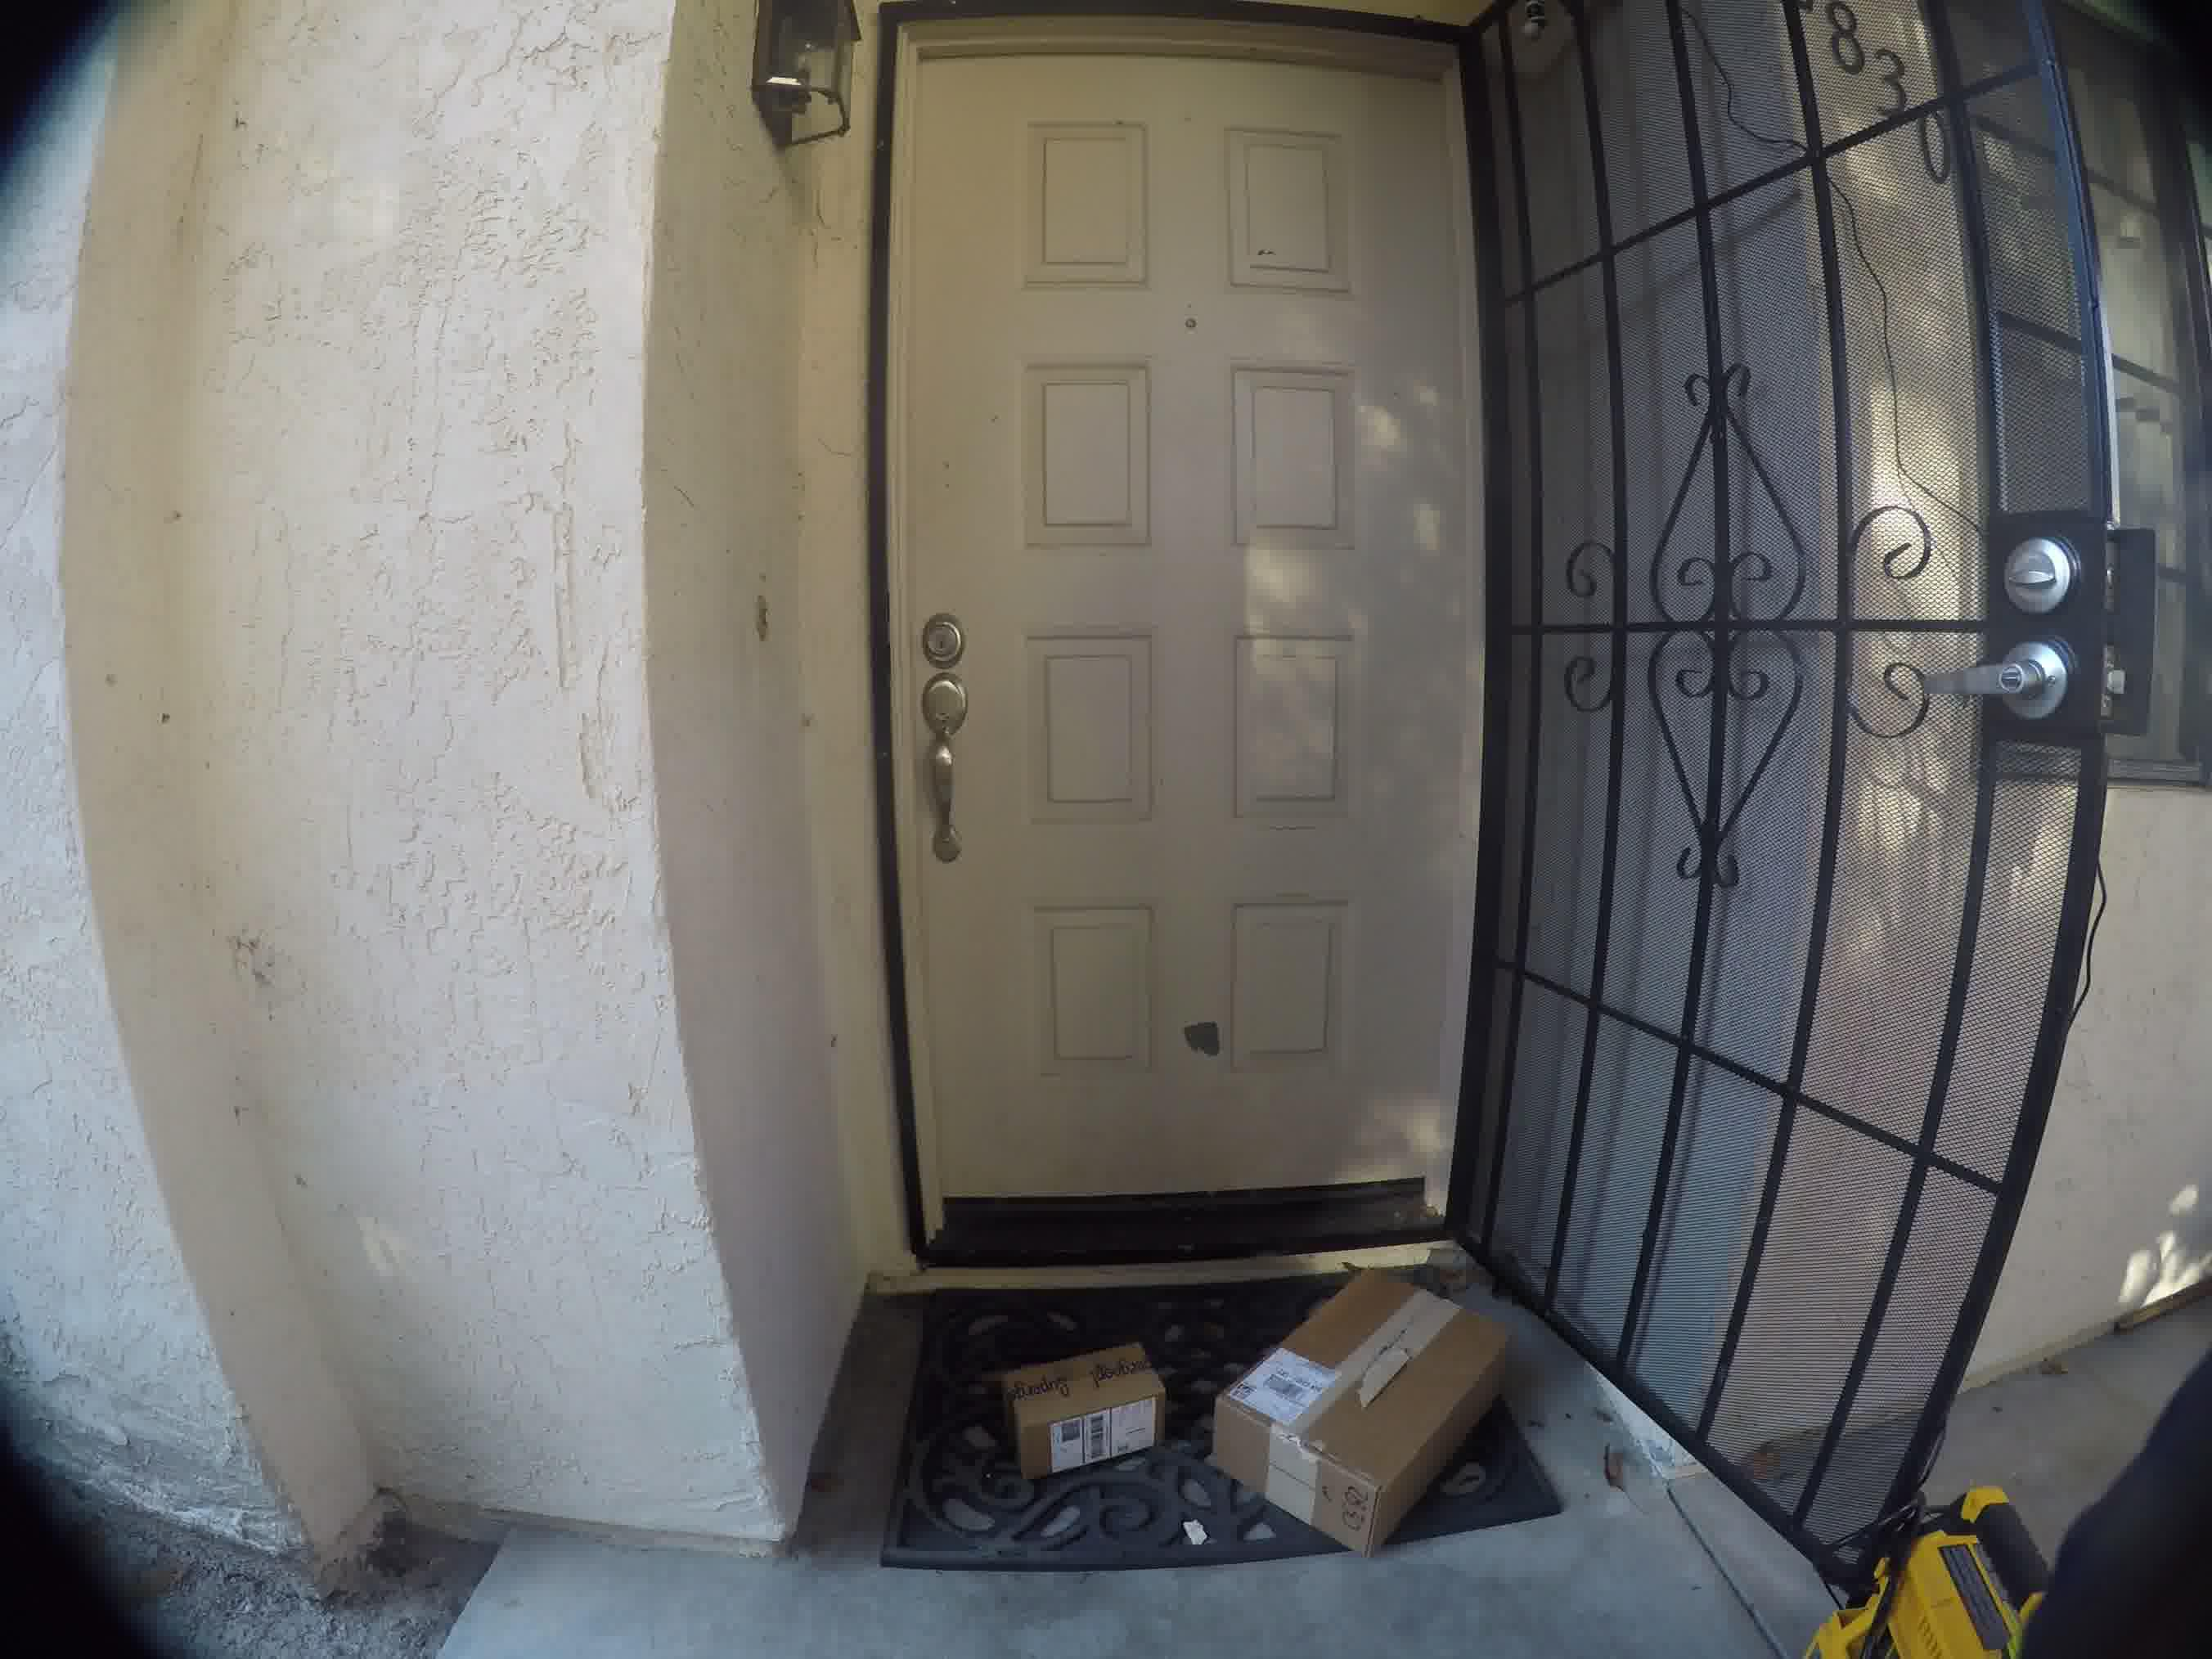box: (1230, 1256, 1531, 1581), (979, 1347, 1174, 1459)
